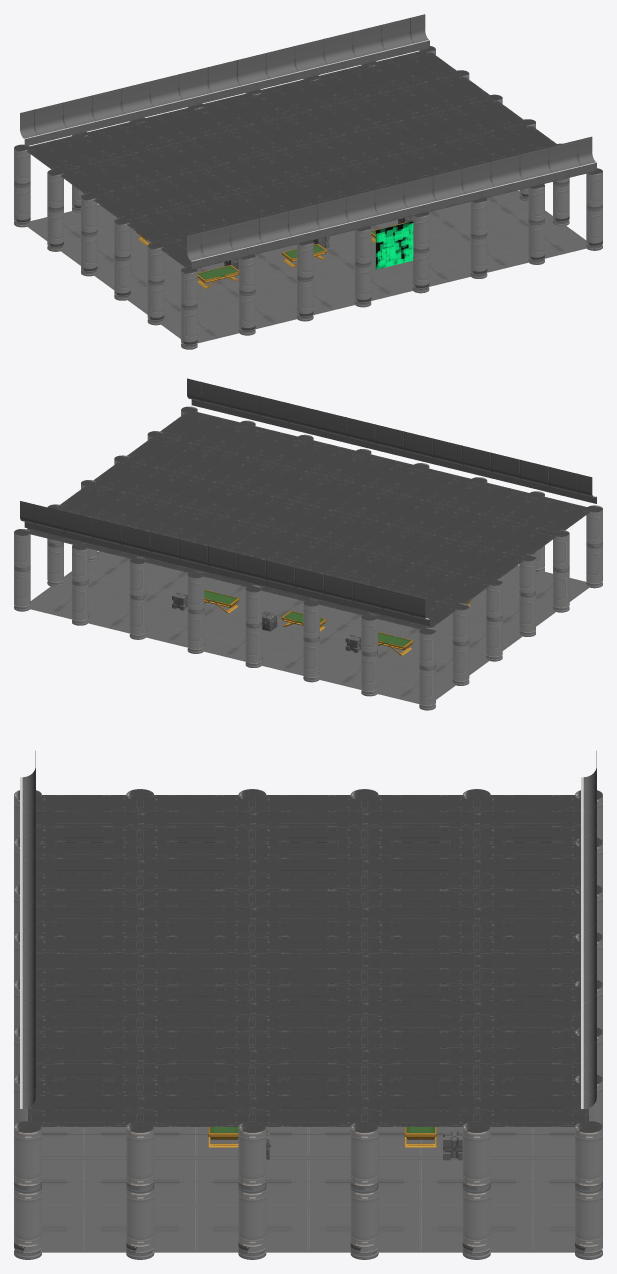
Rendered from sc-market.glb.
The picture shows the model from 3 angles, top to bottom: view 1: azimuth 30°, elevation 25°; view 2: azimuth 150°, elevation 25°; view 3: azimuth 270°, elevation 25°; orthographic projection. The views are drawn at different scales.
Parts seen in each view (by area): view 1: sc-market; view 2: sc-market; view 3: sc-market.
Part boxes in pixels (<box>): sc-market: <box>14,14,602,349</box>; sc-market: <box>14,378,602,710</box>; sc-market: <box>14,751,602,1259</box>.
Size of the model in its own units: 29 by 7.22 by 21.
4 materials, 4 textured.
